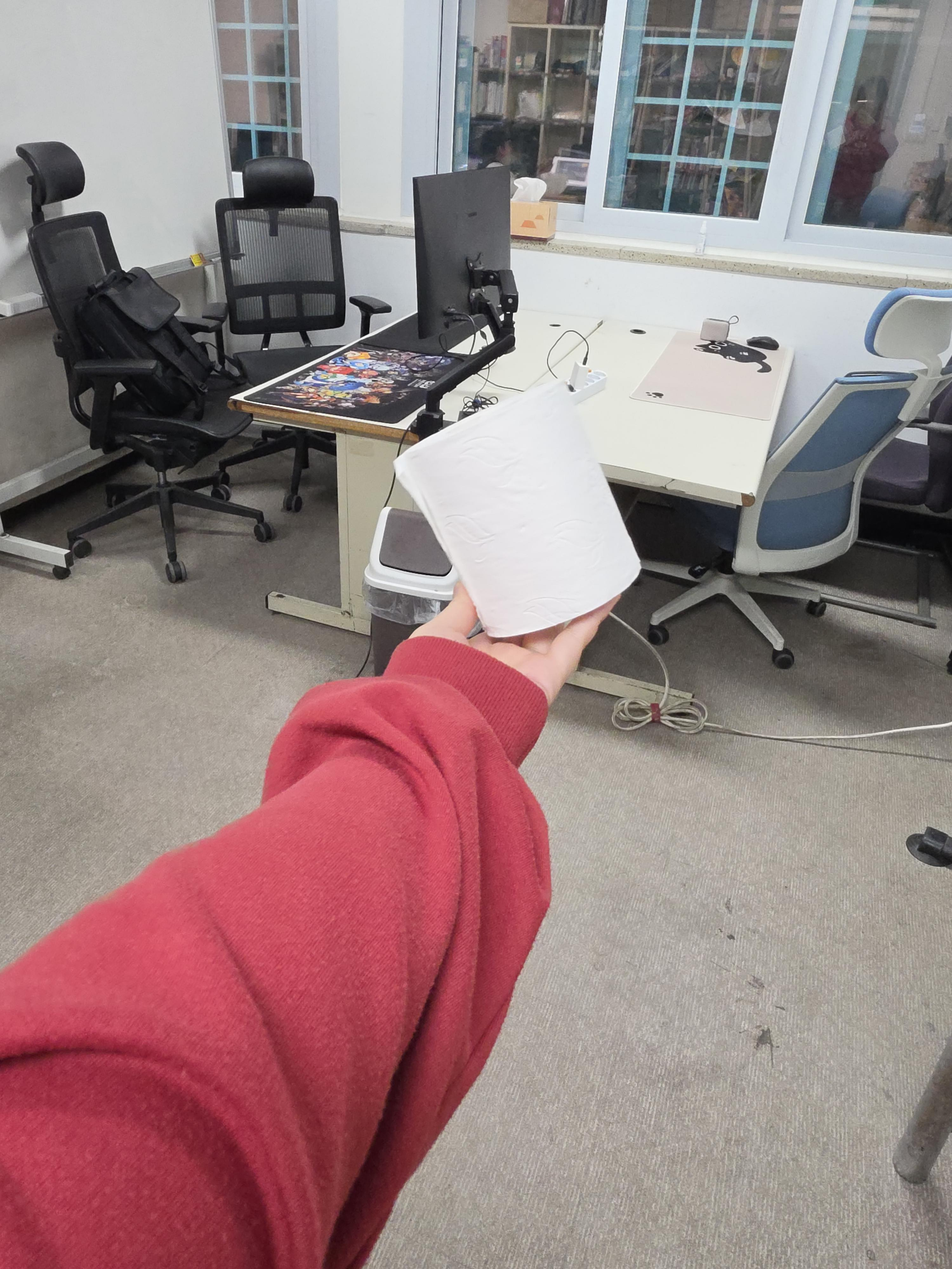tissue: (393, 378, 643, 639), (511, 176, 557, 241)
